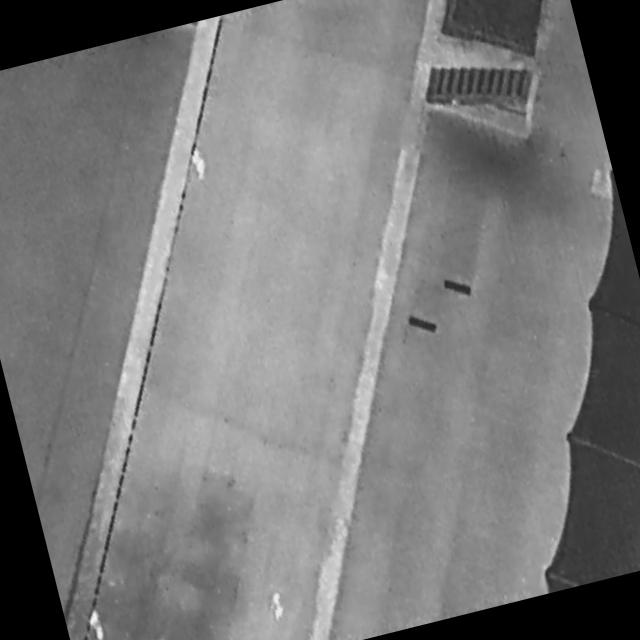person: (265, 587, 289, 624), (84, 604, 108, 640), (189, 148, 209, 180)
